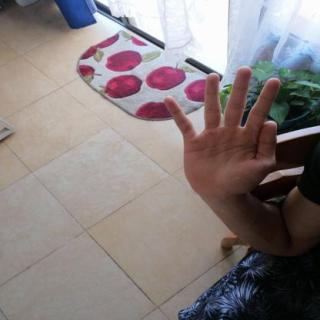SHEEN: (155, 59, 294, 206)
